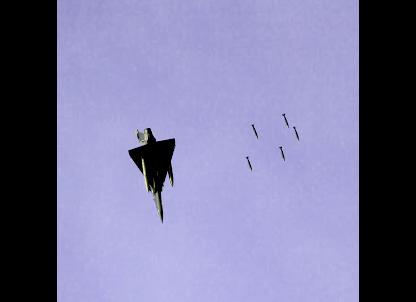Mirage2000: (128, 126, 176, 222)
